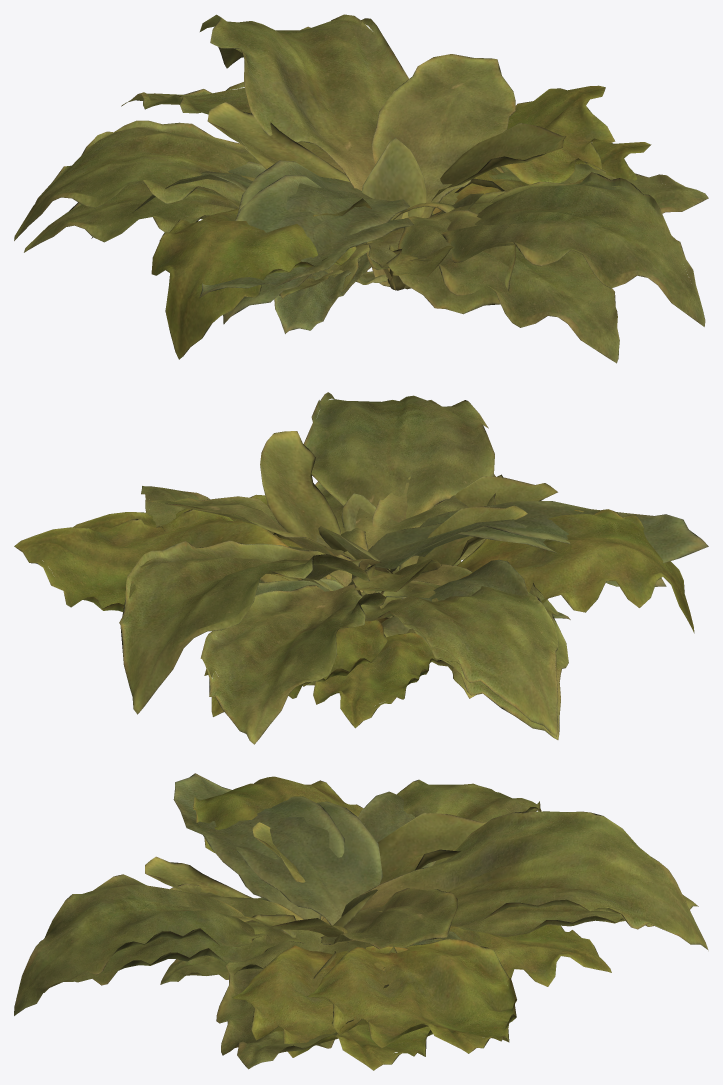
File: ph_crystalline_iceplant.glb
The picture shows the model from 3 angles, top to bottom: view 1: azimuth 30°, elevation 25°; view 2: azimuth 150°, elevation 25°; view 3: azimuth 270°, elevation 25°; orthographic projection. The views are drawn at different scales.
Visible parts, largest first — view 1: v0, v1, v2, v4, v3, v5; view 2: v0, v1, v2, v3; view 3: v0, v1, v2, v3.
Boxes of the visible parts, x1,y1,x2,y2 form: v0: (24, 14, 705, 326); v1: (14, 82, 619, 363); v2: (91, 161, 708, 359); v4: (274, 258, 360, 333); v3: (279, 167, 504, 298); v5: (322, 243, 369, 292); v0: (73, 392, 708, 739); v1: (14, 431, 666, 744); v2: (141, 476, 694, 716); v3: (256, 533, 461, 728); v0: (14, 773, 708, 1070); v1: (43, 779, 698, 1053); v2: (193, 776, 611, 1069); v3: (160, 915, 461, 984).
Size of the model in its own units: 0.2803 by 0.0809 by 0.3156.
1 material, 1 textured.
